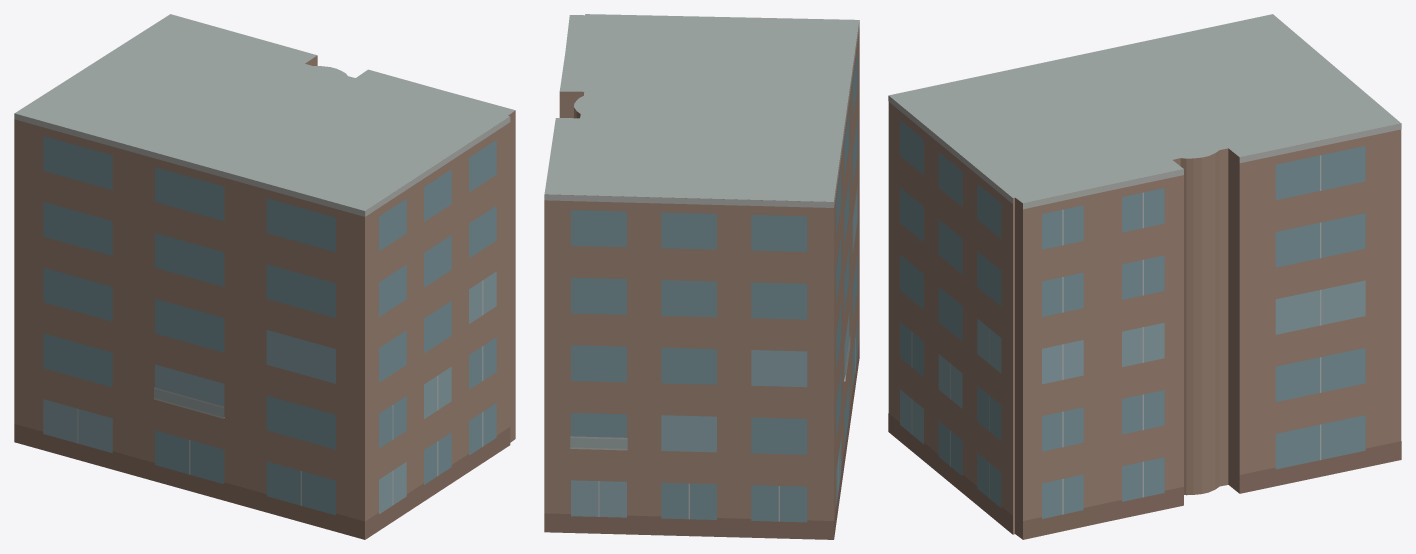
File: survey-upis-32828635.glb
The picture shows the model from 3 angles, left to right: view 1: azimuth 30°, elevation 25°; view 2: azimuth 150°, elevation 25°; view 3: azimuth 270°, elevation 25°; orthographic projection. The views are drawn at different scales.
Visible parts, largest first — view 1: survey-upis-32828635.tmp; view 2: survey-upis-32828635.tmp; view 3: survey-upis-32828635.tmp.
Boxes of the visible parts, x1,y1,x2,y2 form: survey-upis-32828635.tmp: (14, 14, 515, 539); survey-upis-32828635.tmp: (544, 14, 859, 539); survey-upis-32828635.tmp: (888, 14, 1401, 539).
Bounding box in the file's own units: 16.48 × 13.65 × 18.87.
